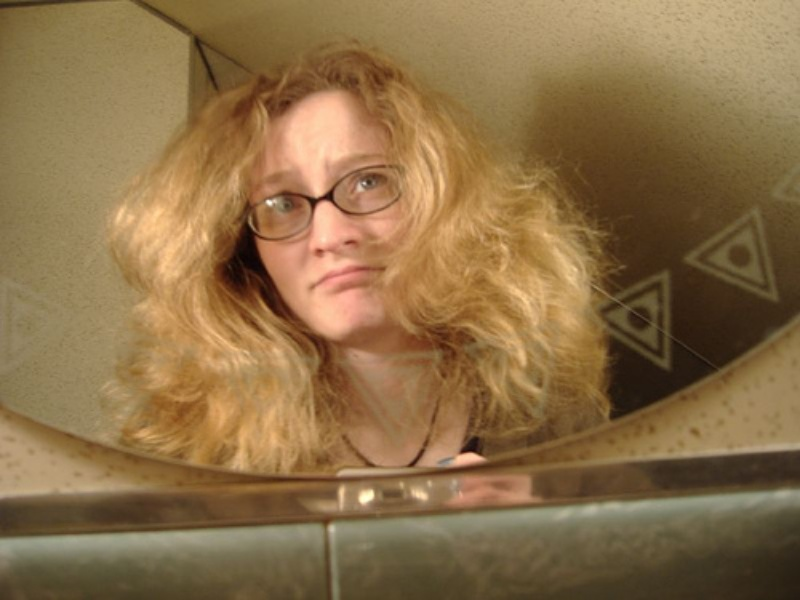person: (105, 43, 611, 477)
